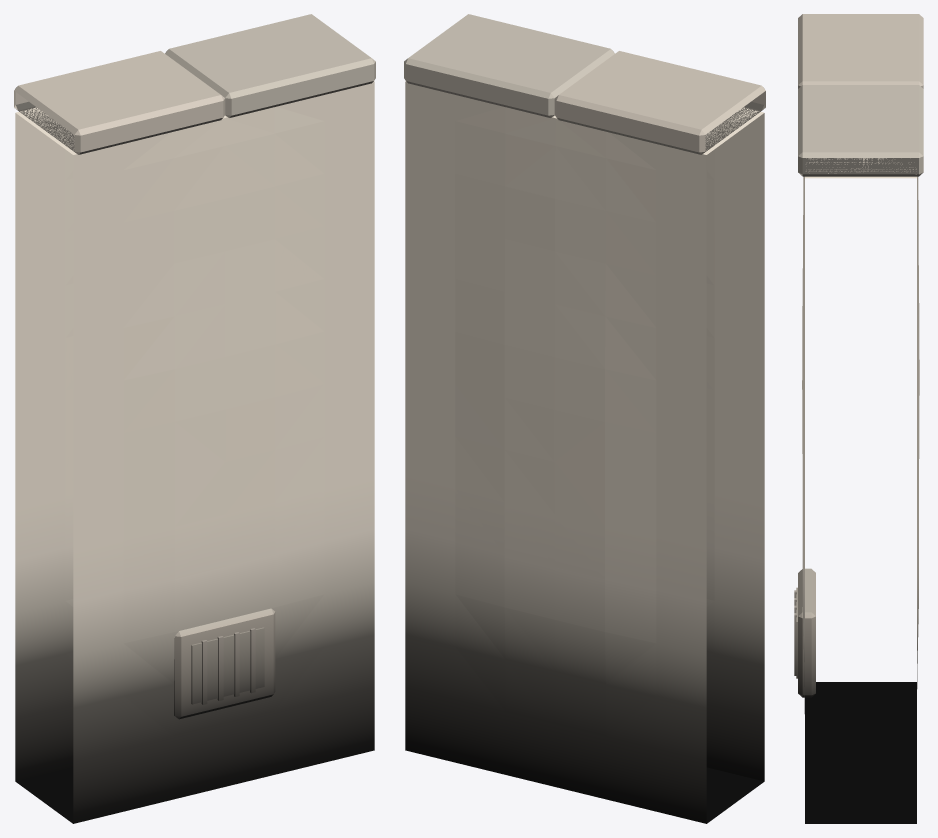
File: SM_VKI_Wall_Sewer_Plain_150B_Full.fbx
3 renders of one model, left to right at view 1: azimuth 30°, elevation 25°; view 2: azimuth 150°, elevation 25°; view 3: azimuth 270°, elevation 25°, orthographic. The views are drawn at different scales.
Visible parts, largest first — view 1: SM_VKI_Wall_Sewer_Plain_150B_Full.001; view 2: SM_VKI_Wall_Sewer_Plain_150B_Full.001; view 3: SM_VKI_Wall_Sewer_Plain_150B_Full.001.
Boxes of the visible parts, box(x1,y1,x2,y2) form: SM_VKI_Wall_Sewer_Plain_150B_Full.001: box(14, 14, 375, 823); SM_VKI_Wall_Sewer_Plain_150B_Full.001: box(404, 14, 765, 823); SM_VKI_Wall_Sewer_Plain_150B_Full.001: box(794, 14, 923, 823).
Bounding box in the file's own units: 1.5 × 3.3 × 0.5765.
